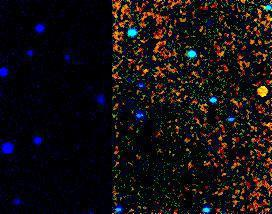star: (243, 78, 272, 108)
